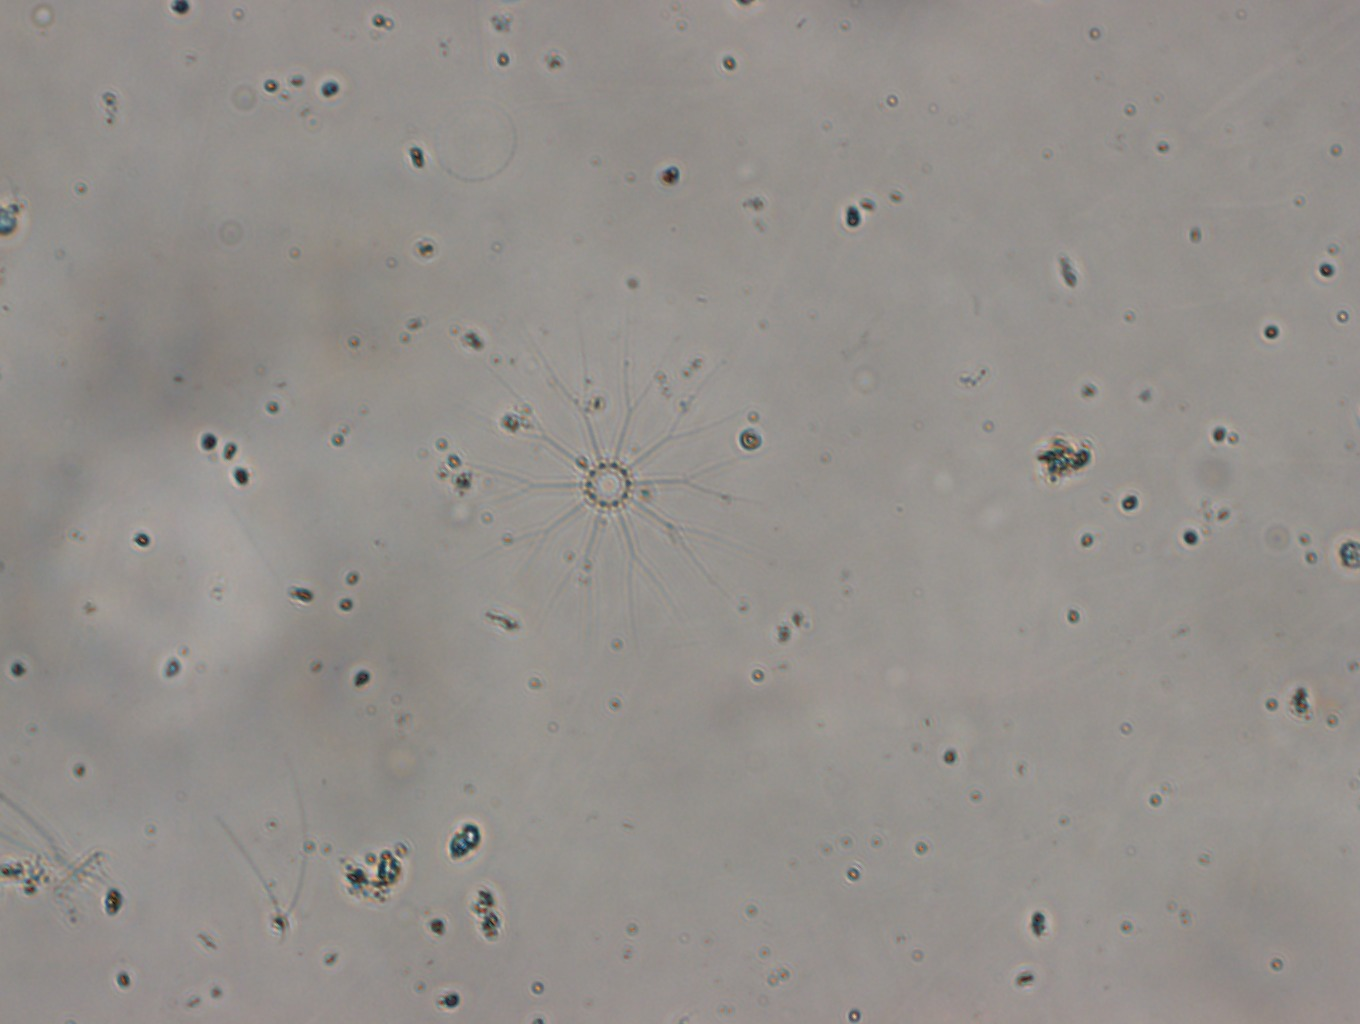bacteriastrum: (462, 323, 776, 632)
